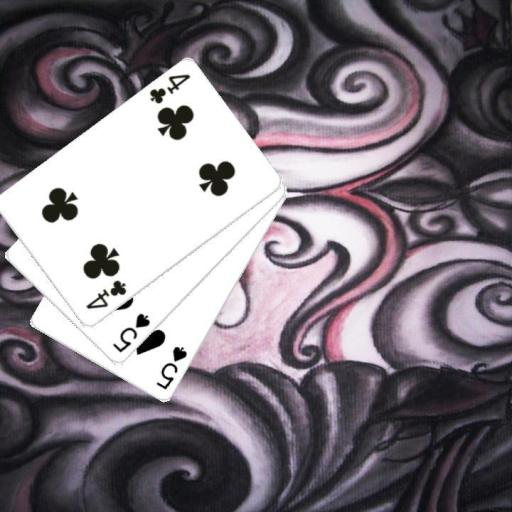4C: (82, 277, 128, 312), (146, 71, 192, 106)
5S: (110, 310, 152, 355), (153, 343, 189, 392)
